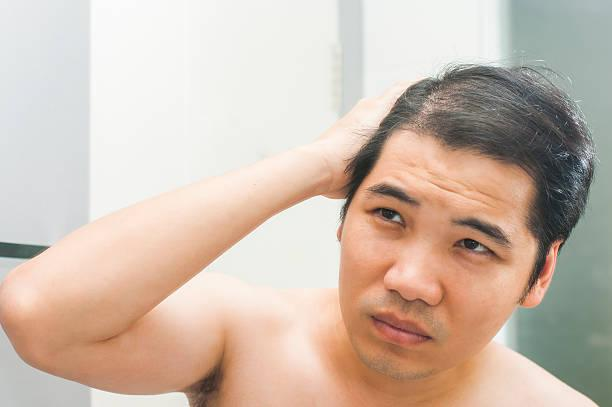dry hair: (472, 92, 541, 119)
low hair density: (424, 91, 445, 114)
